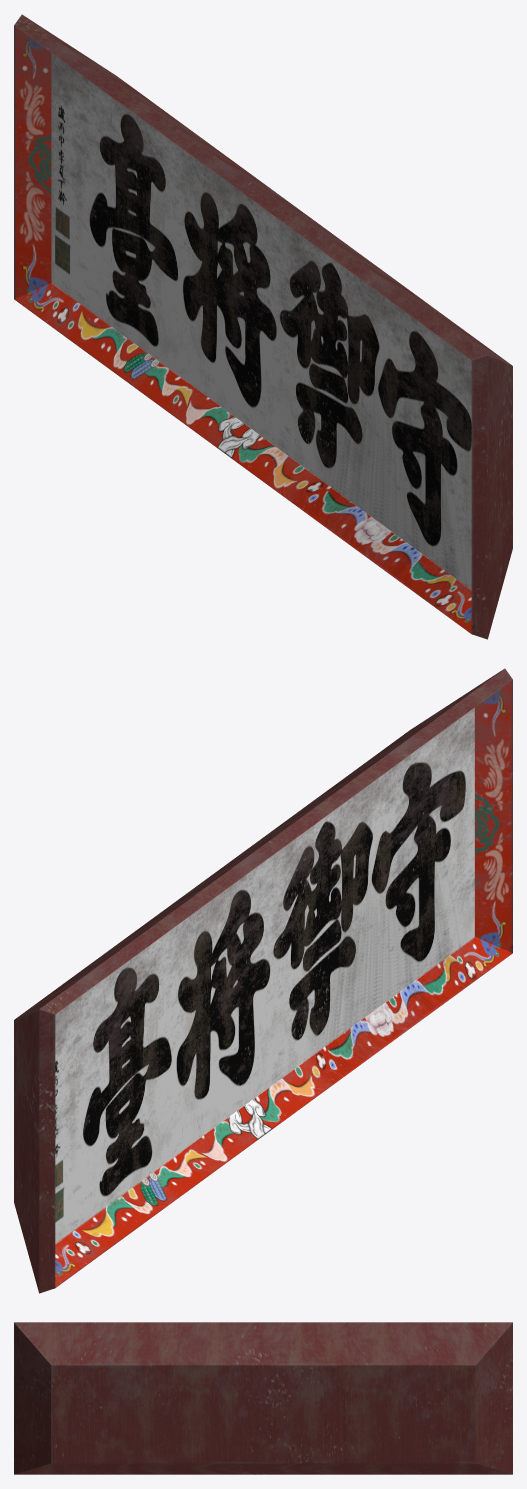
Rendered from SM_SOJD_Signboard01g.fbx.
3 views of the same model, one above another, from view 1: azimuth 30°, elevation 25°; view 2: azimuth 150°, elevation 25°; view 3: azimuth 270°, elevation 25° (orthographic). The views are drawn at different scales.
Visible parts, largest first — view 1: SM_SOJD_Signboard01g; view 2: SM_SOJD_Signboard01g; view 3: SM_SOJD_Signboard01g.
Part boxes in pixels (left/top/right/bottom): SM_SOJD_Signboard01g: left=14, top=14, right=512, bottom=639; SM_SOJD_Signboard01g: left=14, top=668, right=512, bottom=1293; SM_SOJD_Signboard01g: left=14, top=1322, right=512, bottom=1474.
Bounding box in the file's own units: 28.56 × 319 × 108.
1 material, 1 textured.
